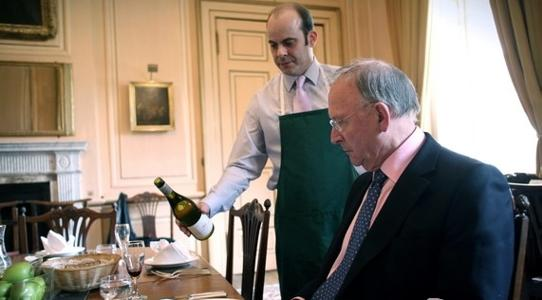person: (177, 6, 369, 300)
